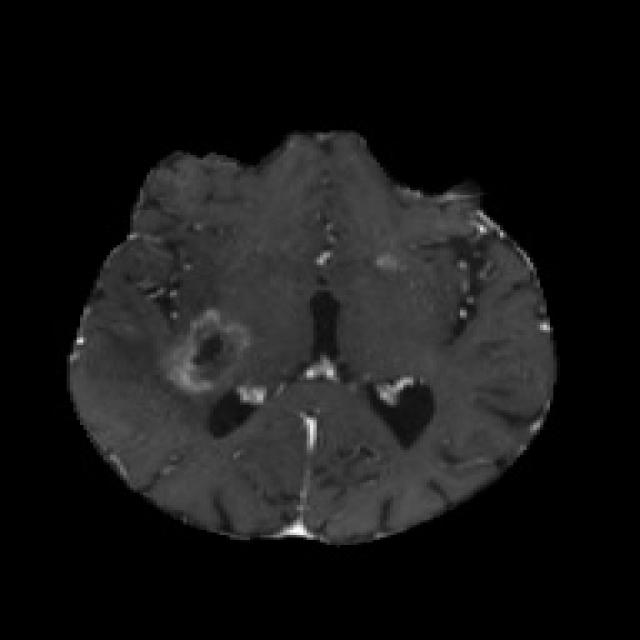positive: (168, 311, 248, 389)
